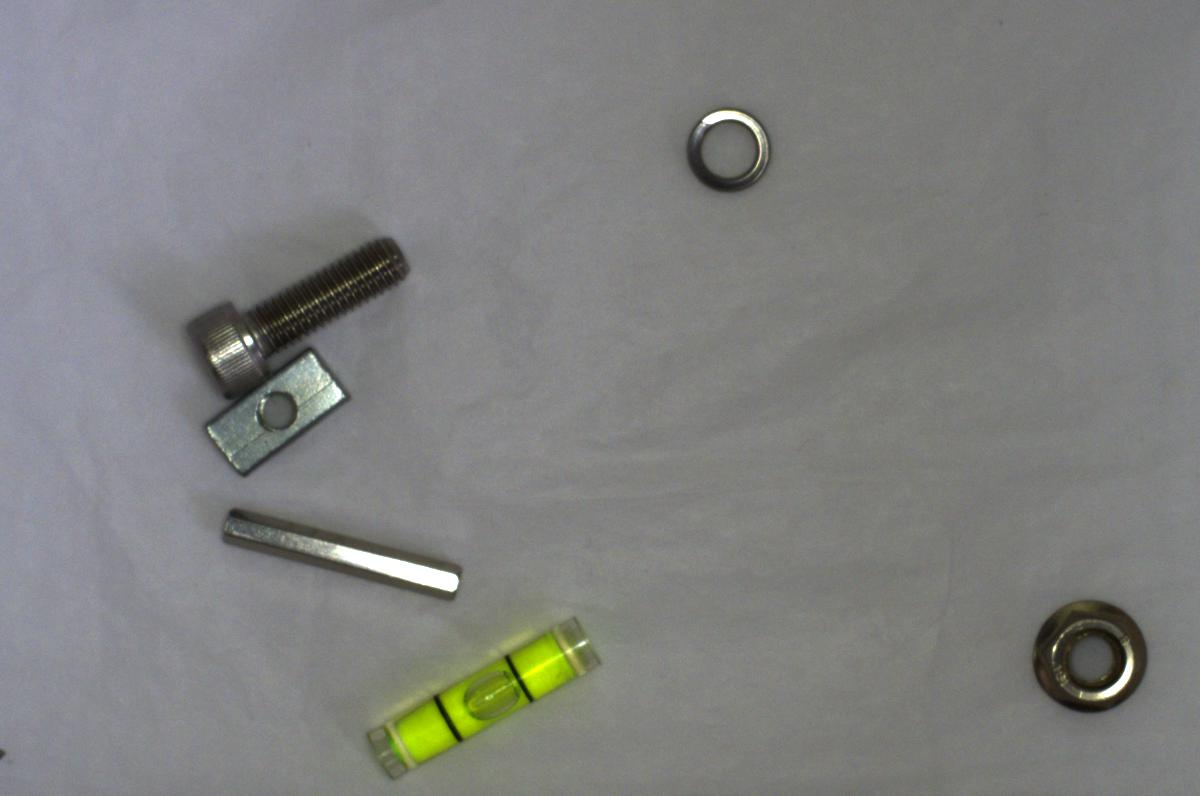Double hexagonal column: (208, 500, 465, 610)
Flange nut: (1014, 589, 1160, 718)
Hexagon screw: (180, 232, 427, 398)
Horizontal bubble: (362, 615, 601, 782)
Rectangular nut: (197, 346, 351, 479)
Spring washer: (680, 105, 781, 198)
